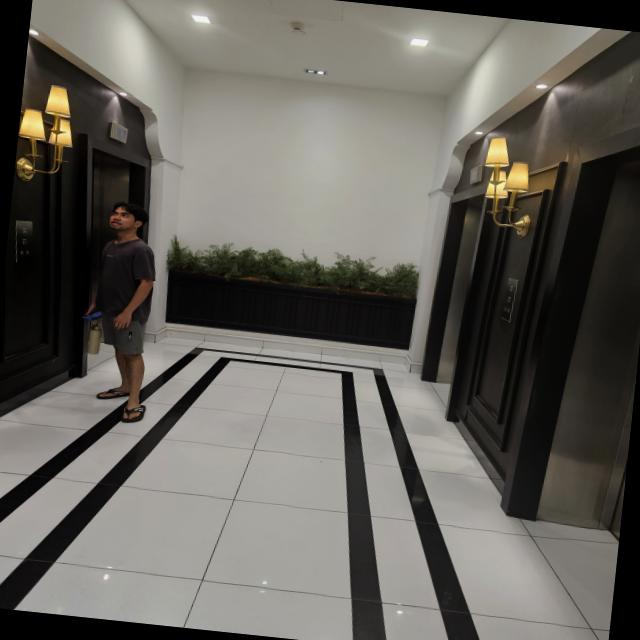footpath: (0, 396, 489, 640)
obstacle: (160, 235, 421, 352)
person: (75, 198, 176, 420)
